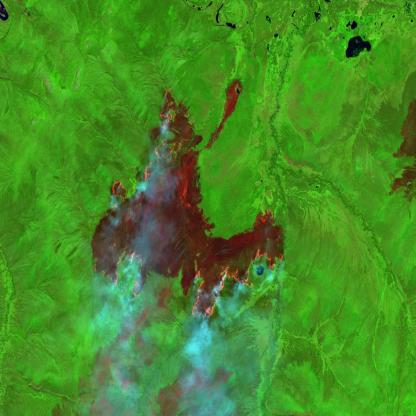fire: (92, 84, 285, 323)
